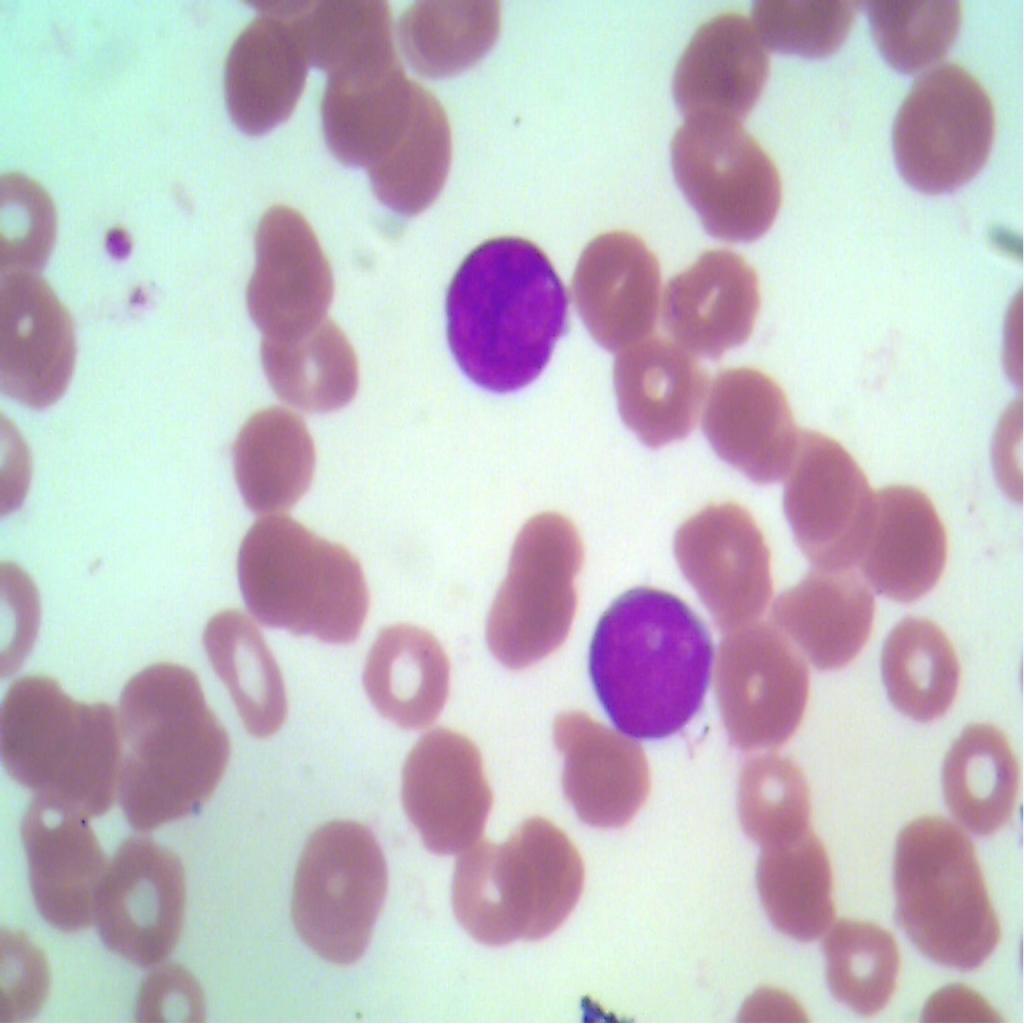Eritrosit: (886, 814, 1012, 991), (470, 514, 588, 677), (286, 808, 394, 966), (668, 108, 788, 245), (198, 597, 298, 751), (890, 61, 992, 211), (768, 426, 874, 568), (395, 724, 498, 868), (86, 829, 195, 964), (669, 495, 783, 624), (556, 212, 662, 349), (244, 194, 338, 344), (23, 784, 108, 948), (498, 824, 598, 962), (549, 699, 650, 835), (250, 302, 370, 415), (599, 328, 708, 450), (358, 86, 460, 214), (714, 616, 808, 746), (656, 252, 769, 360), (0, 275, 89, 412), (868, 608, 964, 735), (702, 362, 806, 479), (39, 691, 129, 826), (670, 11, 770, 132), (442, 814, 524, 959), (854, 481, 948, 607), (123, 734, 233, 841), (755, 825, 843, 958), (323, 55, 421, 172), (282, 538, 378, 650), (215, 10, 299, 136), (356, 622, 451, 727), (934, 726, 1023, 838), (226, 402, 314, 515), (779, 572, 878, 669), (116, 661, 203, 765), (235, 508, 314, 622), (10, 664, 78, 794), (397, 0, 500, 84), (296, 0, 390, 92), (726, 746, 808, 851), (814, 914, 900, 1008), (0, 168, 63, 278)
Limfoblast: (579, 577, 723, 751), (436, 228, 569, 399)
Platelet: (99, 218, 138, 271), (128, 280, 148, 318)
